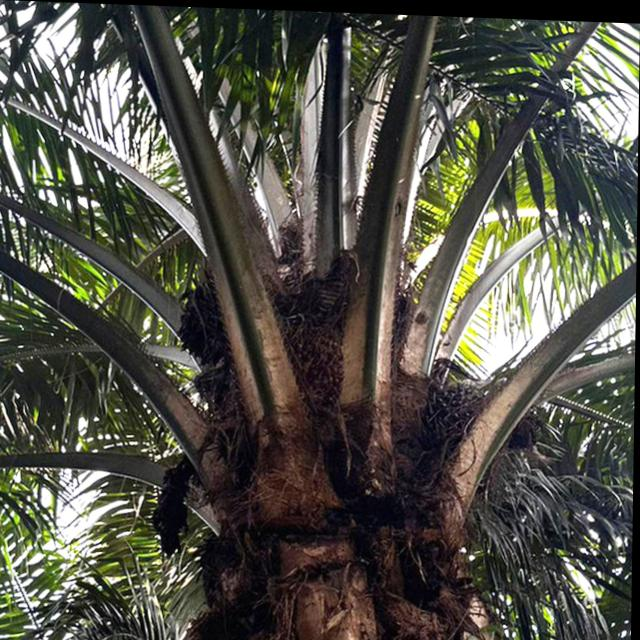ripe: (272, 295, 362, 416)
